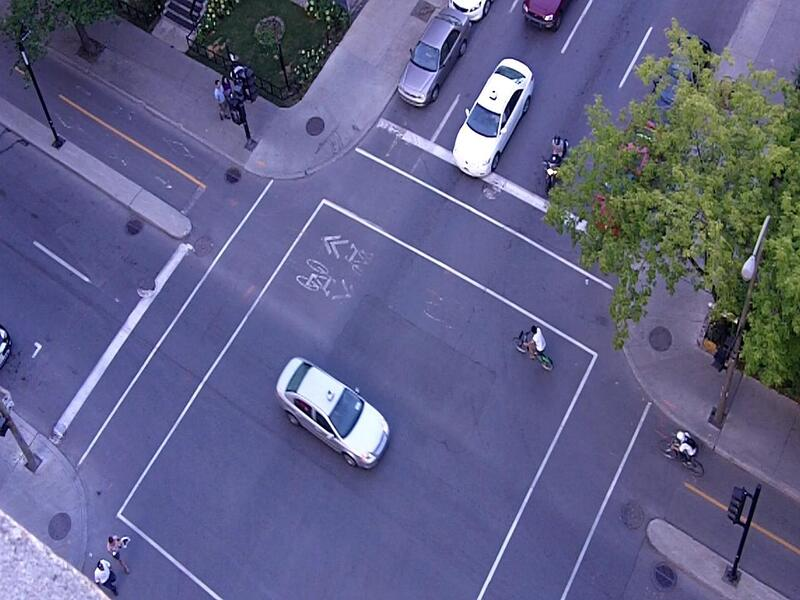car: (274, 356, 391, 470), (453, 58, 535, 177)
